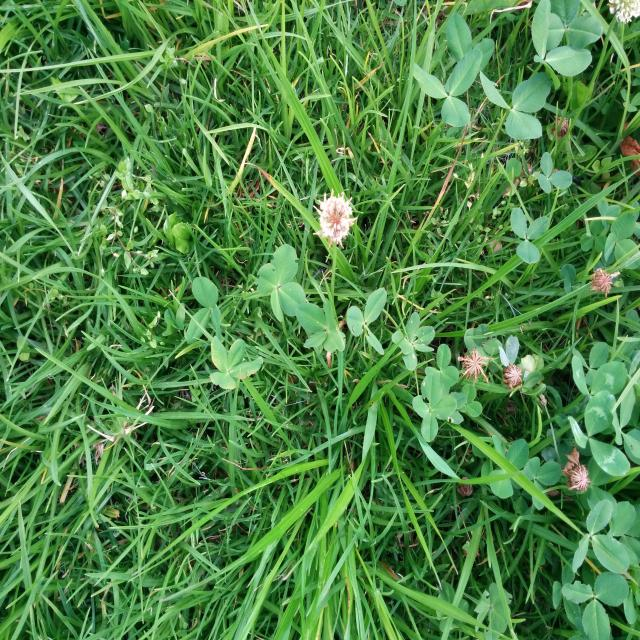Four Leaf Clover: (255, 245, 305, 322), (412, 375, 456, 442), (210, 336, 263, 389), (391, 311, 435, 370), (307, 298, 346, 353)
